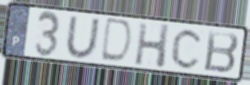3: (33, 9, 62, 59)
B: (202, 28, 241, 75)
C: (169, 27, 205, 71)
D: (98, 17, 135, 66)
H: (133, 22, 172, 71)
U: (64, 15, 102, 61)
